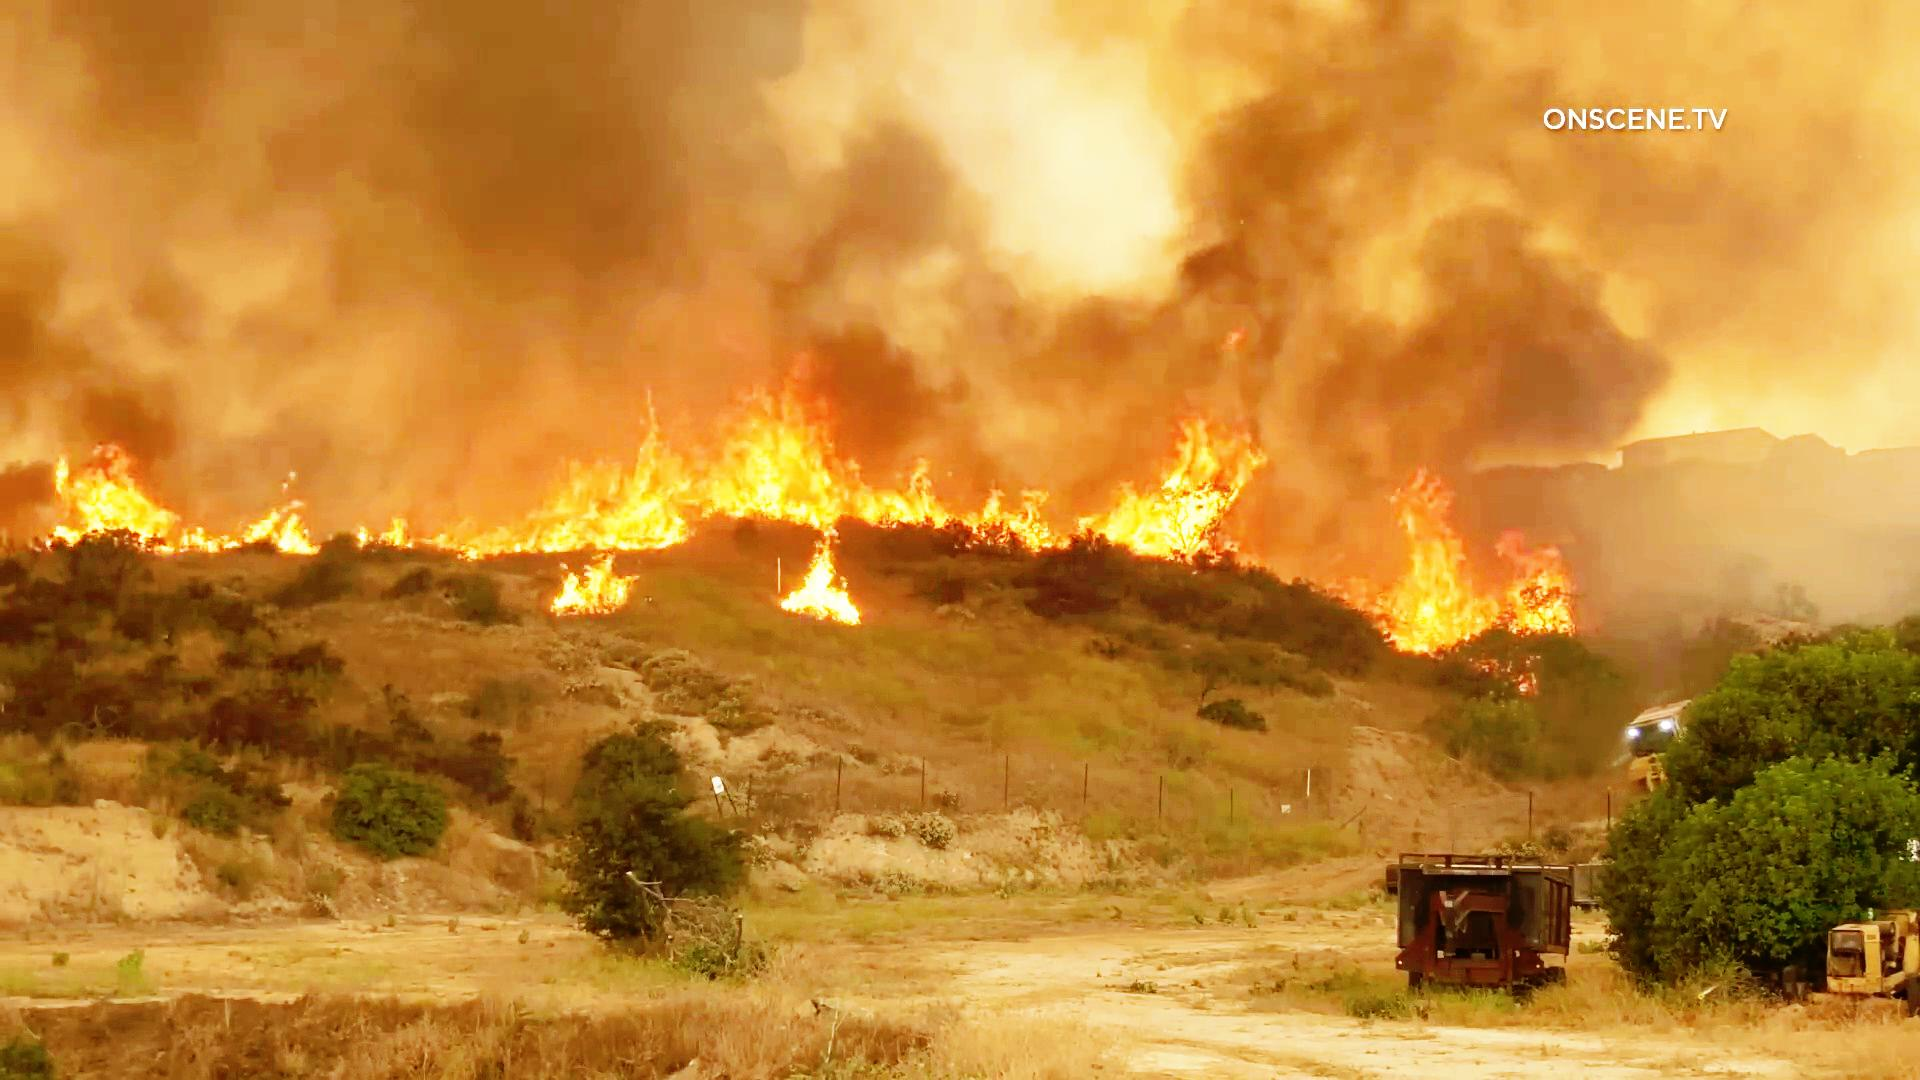fire: (483, 356, 855, 568), (1348, 476, 1598, 670), (38, 443, 330, 571), (1046, 404, 1245, 567)
